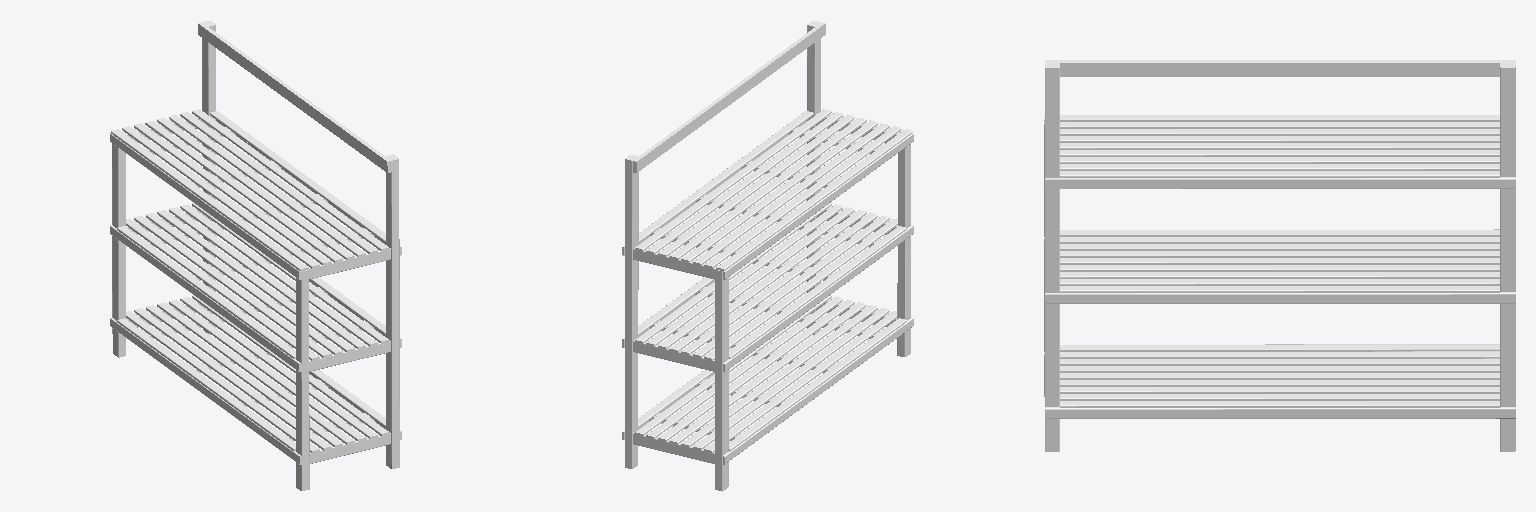
URDF robot description (milk):
<?xml version="1.0" encoding="utf-8"?>
<robot name="milk">
  <link name="base_link">
    <contact>
      <lateral_friction value="1.5"/>
      <rolling_friction value="1.0"/>
      <contact_cfm value="1.0"/>
      <contact_erp value="1.0"/>
    </contact>
    <inertial>
      <origin rpy="0 0 0" xyz="0 0 0"/>
      <mass value="0"/>
      <inertia ixx="0" ixy="0" ixz="0" iyy="0" iyz="0" izz="0"/>
    </inertial>
    <visual>
      <origin rpy="-1.57 0 -1.57" xyz="0 0 1.2"/>
      <geometry>
        <mesh filename="models/meshes/shelf/shelf.obj" scale="1 1 1"/>
      </geometry>
      <material name="tray_material">
        <color rgba="1 1 1 1"/>
      </material>
    </visual>
    <collision>
      <origin rpy="-1.57 0 -1.57" xyz="0 0 1.2"/>
      <geometry>
        <mesh filename="models/meshes/shelf/shelf.obj" scale="1 1 1"/>
      </geometry>
    </collision>
  </link>
</robot>

--- What the picture shows (computed from the rendered views, not written in the file) ---
The picture shows the robot from 3 angles, left to right: view 1: azimuth 30°, elevation 25°; view 2: azimuth 150°, elevation 25°; view 3: azimuth 270°, elevation 25°; orthographic projection.
Model milk with 1 links and 0 joints (none), rooted at base_link, posed every joint at zero.
Links seen in each view (by area): view 1: base_link; view 2: base_link; view 3: base_link.
Link boxes in pixels (x1,y1,x2,y2): base_link: (110,21,401,490); base_link: (622,21,913,491); base_link: (1044,60,1515,451).
Size in the robot's own frame: 0.3775 by 1.2 by 1.08 metres.
Meshes: 1 distinct files referenced, 1 mesh visuals loaded (1 OBJ).